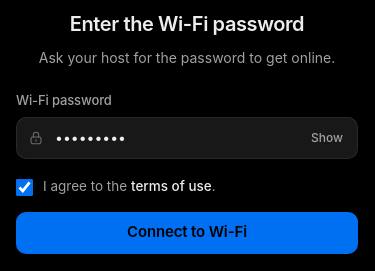
WifiPassword (the sole entry screen, password-only) › show/hide toggles the input type without clearing it
Click the button with aria-label "Show password": (327, 138) [302,123,352,153]
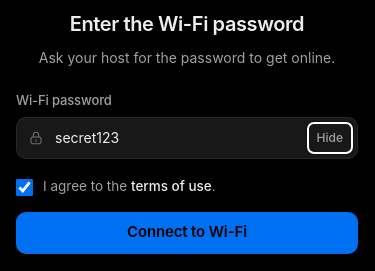
Expected: the field labelled "Wi-Fi password" holds "secret123", [16,117,358,159]
Expected: the field labelled "Wi-Fi password" shows its text, [16,117,358,159]
